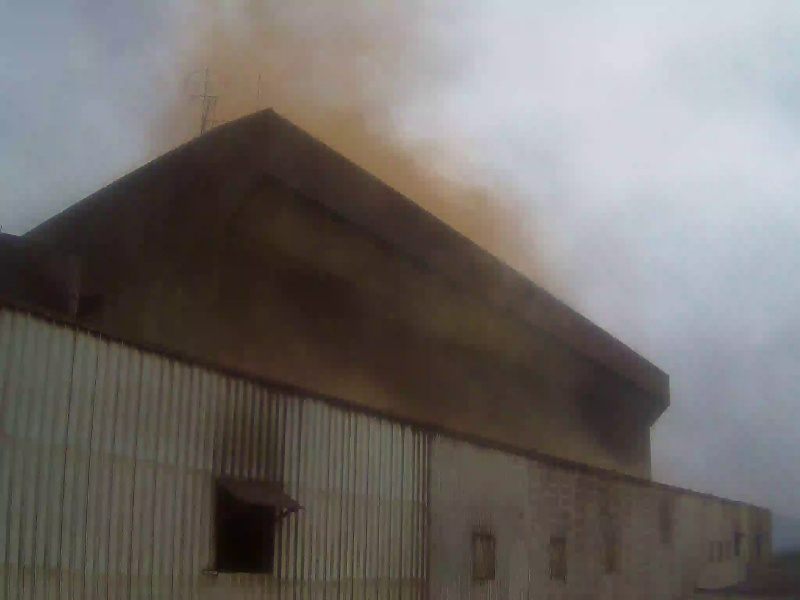Galpao: (1, 233, 674, 600)
Janela: (215, 474, 284, 577)
Pessimo: (189, 1, 310, 87), (302, 63, 367, 129), (352, 128, 378, 158), (379, 145, 405, 175), (409, 165, 435, 195), (439, 189, 465, 219)
